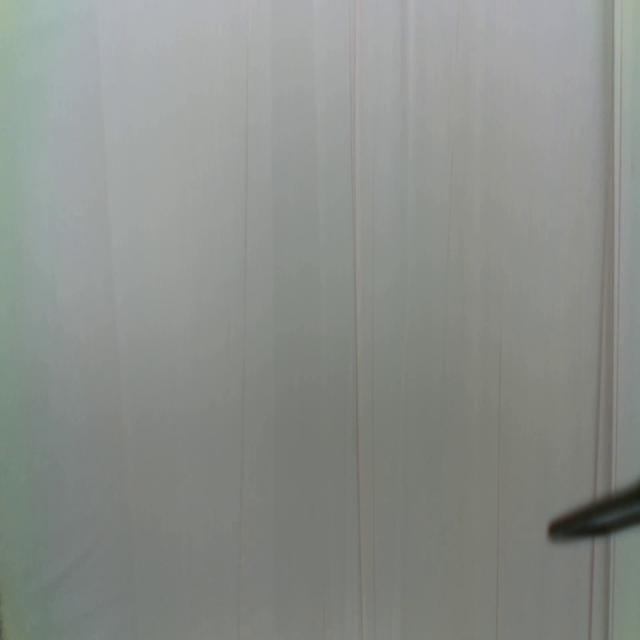crease: (592, 0, 624, 488), (235, 3, 251, 640), (350, 0, 365, 639), (587, 534, 617, 640), (494, 336, 503, 640)
